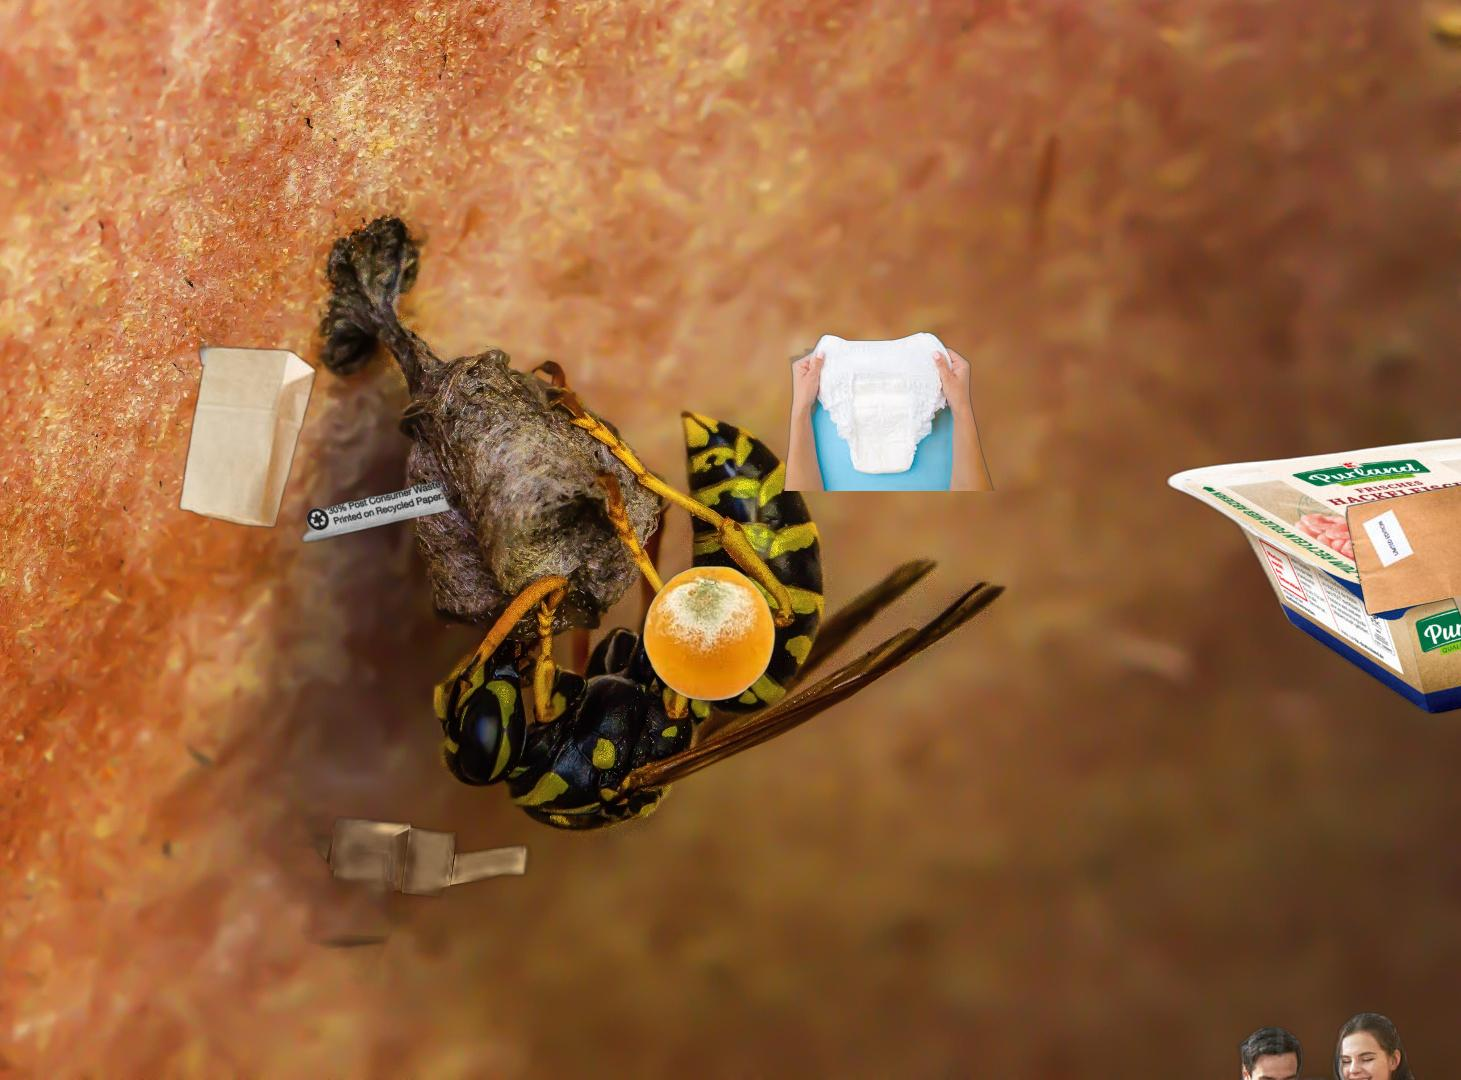biological: (641, 563, 779, 704)
paper: (297, 476, 454, 546)
paper-bag: (176, 305, 326, 535), (1343, 478, 1461, 768)
trash: (782, 329, 1016, 491)
trashbox-cardboard: (1159, 421, 1461, 718), (212, 815, 539, 1080), (1100, 1006, 1461, 1080)
